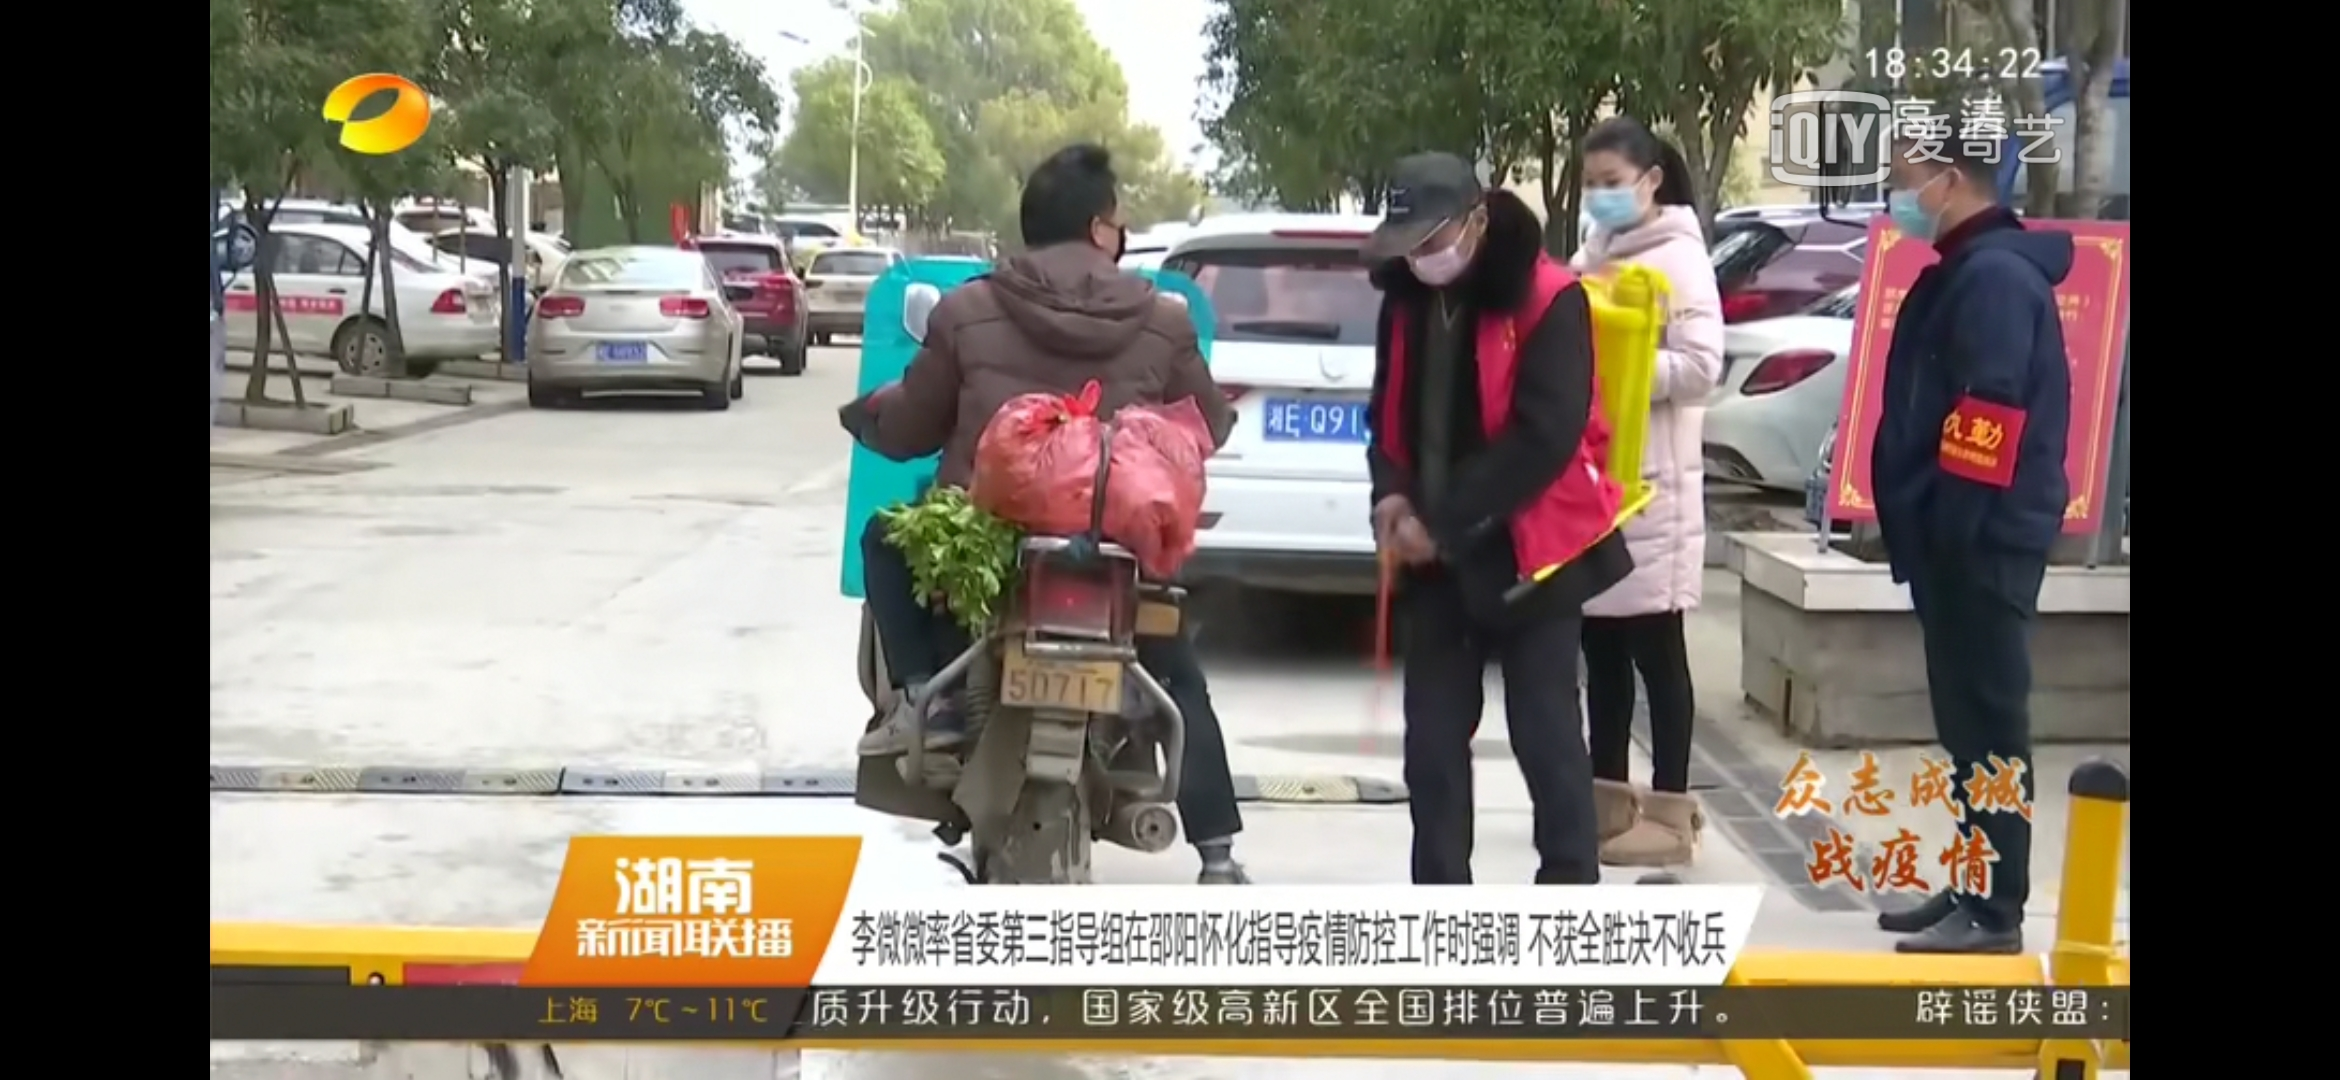correctlyWear: (1877, 146, 1976, 239), (1389, 198, 1489, 285), (1570, 148, 1665, 227), (1086, 173, 1131, 266)
